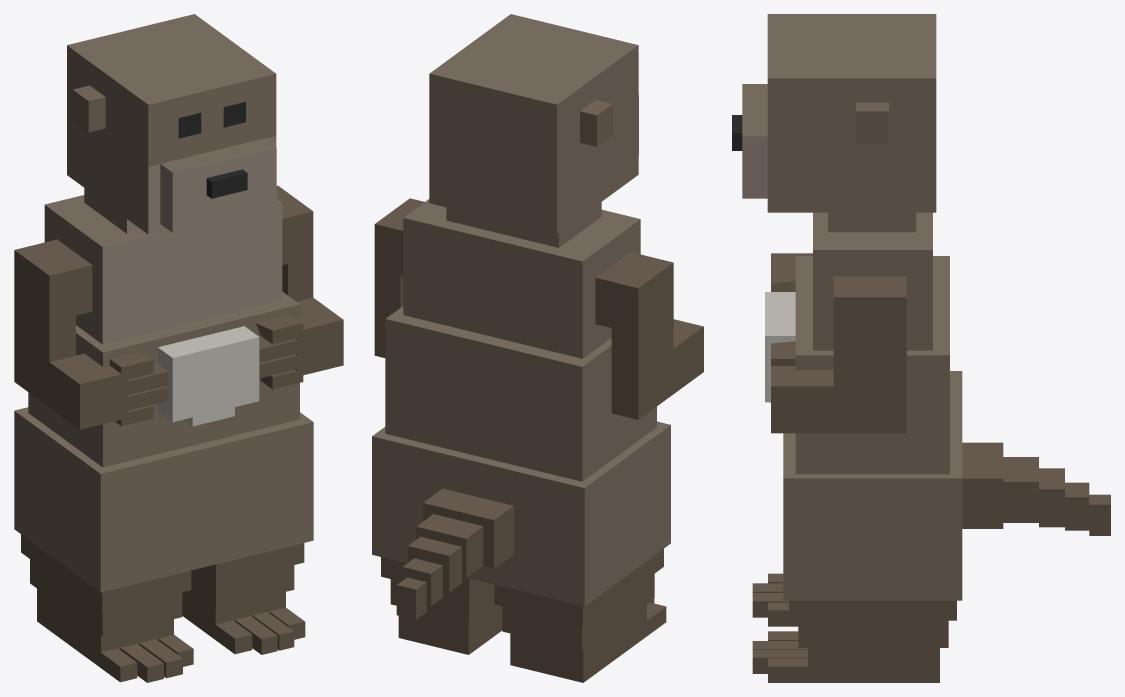
3 views of the same model, side by side, from view 1: azimuth 30°, elevation 25°; view 2: azimuth 150°, elevation 25°; view 3: azimuth 270°, elevation 25° (orthographic). The views are drawn at different scales.
Visible parts, largest first — view 1: Box002; view 2: Box002; view 3: Box002.
Boxes of the visible parts, x1=… form: Box002: x1=14, y1=14, x2=343, y2=682; Box002: x1=372, y1=14, x2=703, y2=682; Box002: x1=732, y1=14, x2=1110, y2=682.
Size of the model in its own units: 16.11 by 33.29 by 19.38.
Materials: 1 (1 with a texture image).
